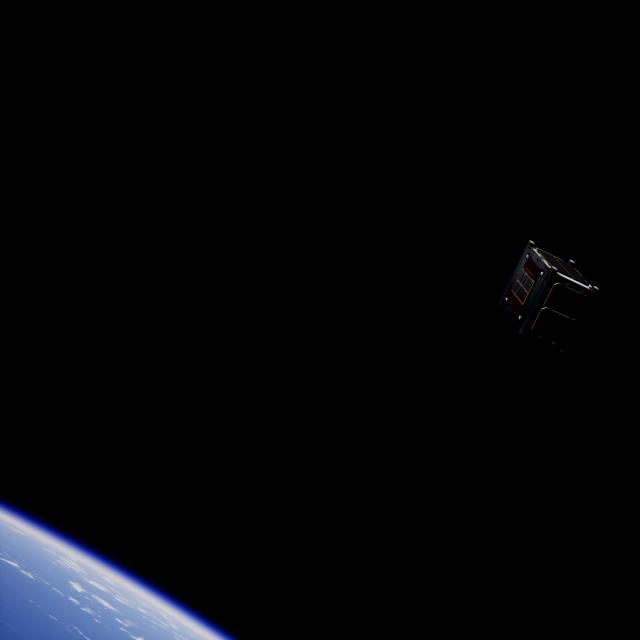medium_debris: (492, 232, 609, 376)
